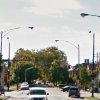Tree: (10, 42, 83, 78)
